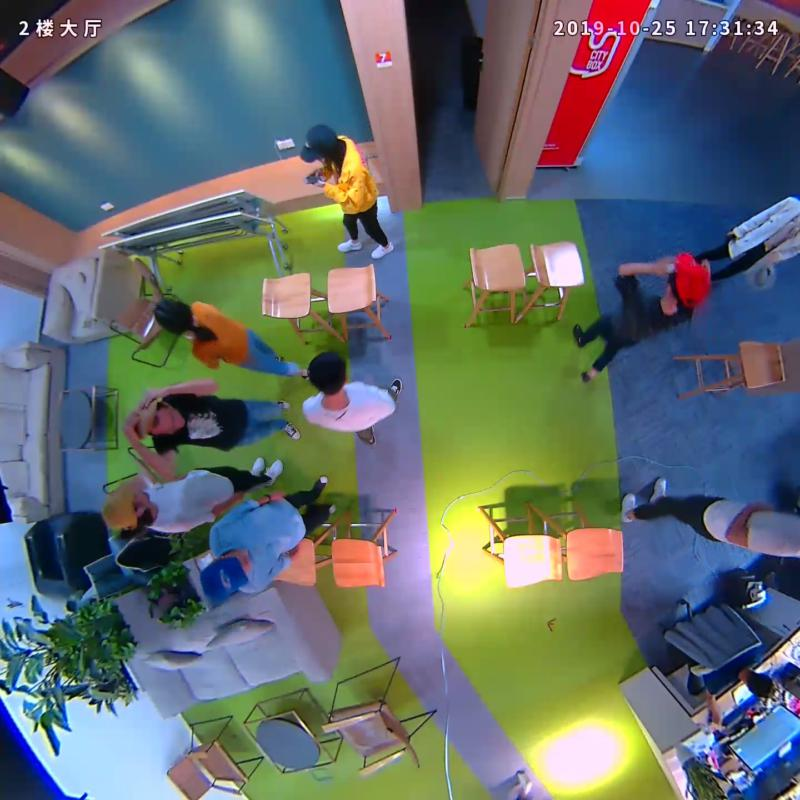head: (201, 552, 252, 604), (667, 251, 710, 311), (102, 490, 150, 530), (307, 351, 347, 396), (297, 125, 339, 166), (135, 401, 183, 436), (153, 299, 194, 333)
